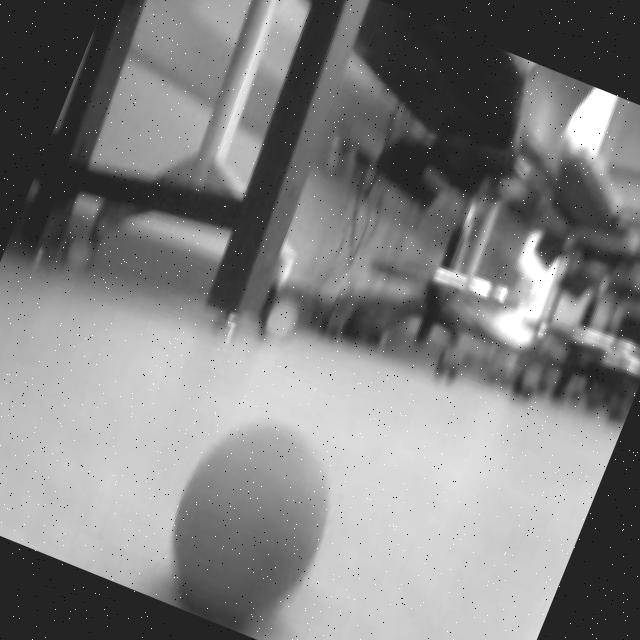ping-pong-ball: (130, 391, 368, 640)
